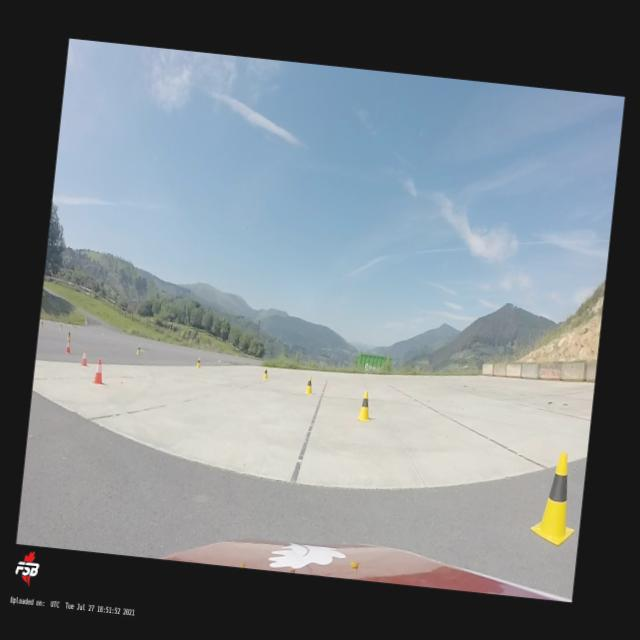orange_cone: (92, 358, 105, 384), (80, 346, 90, 366), (65, 338, 72, 354)
yellow_cone: (528, 448, 582, 547), (356, 389, 374, 421), (304, 374, 314, 394), (262, 366, 268, 380), (196, 356, 202, 368), (136, 344, 142, 354), (66, 330, 71, 340)
